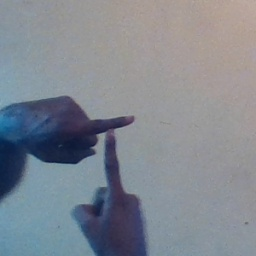T: (53, 98, 157, 213)
